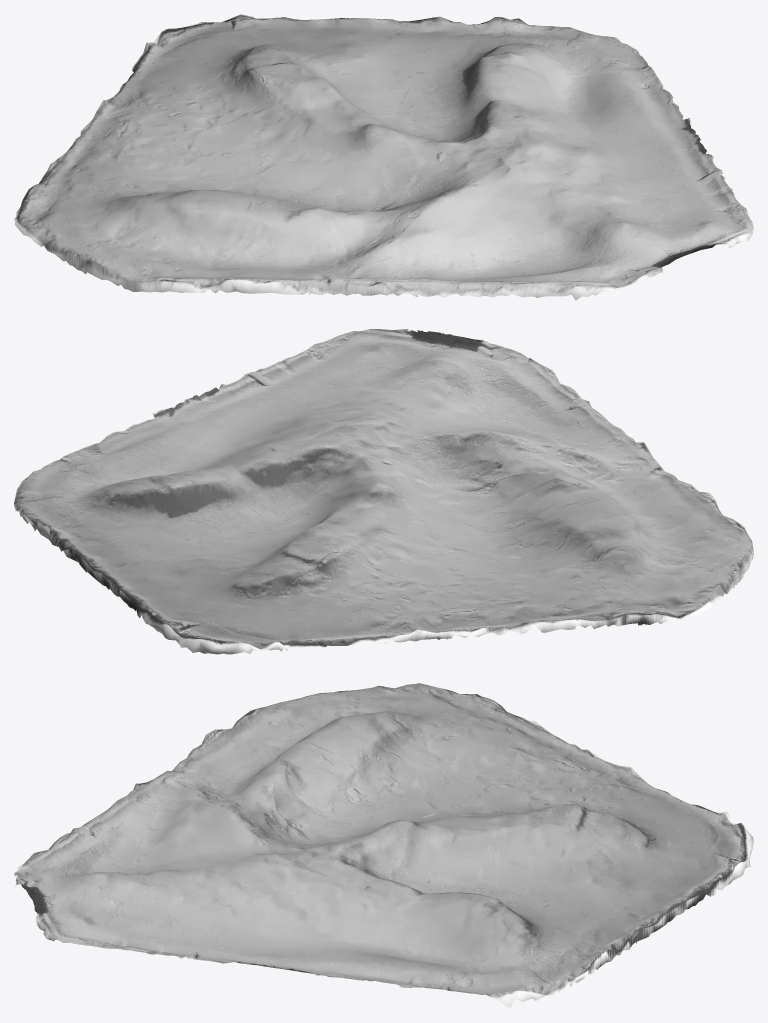
Rendered from footprint.glb.
The picture shows the model from 3 angles, top to bottom: view 1: azimuth 30°, elevation 25°; view 2: azimuth 150°, elevation 25°; view 3: azimuth 270°, elevation 25°; orthographic projection. The views are drawn at different scales.
Parts seen in each view (by area): view 1: Footprint; view 2: Footprint; view 3: Footprint.
Boxes of the visible parts, bbox=[...] form: Footprint: bbox=[14, 14, 753, 300]; Footprint: bbox=[14, 329, 753, 654]; Footprint: bbox=[14, 683, 753, 1008].
Bounding box in the file's own units: 1.69 × 0.1072 × 1.7.
1 material, 1 textured.
